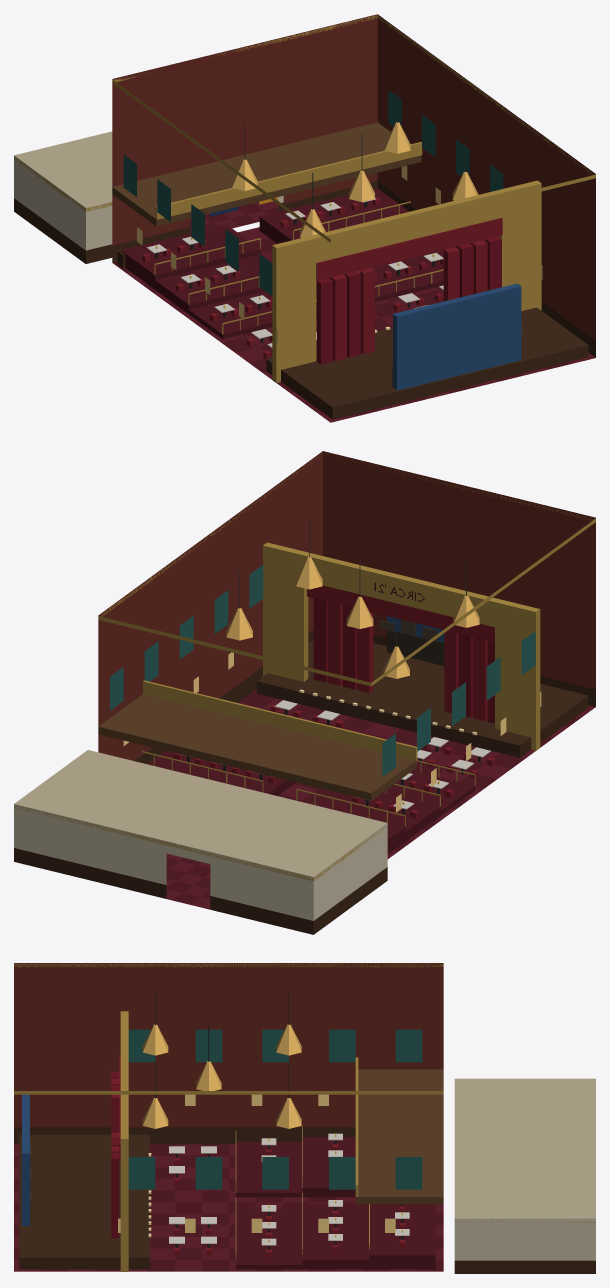
Rendered from circa21_int.glb.
3 renders of one model, top to bottom at view 1: azimuth 30°, elevation 25°; view 2: azimuth 150°, elevation 25°; view 3: azimuth 270°, elevation 25°, orthographic. The views are drawn at different scales.
Parts seen in each view (by area): view 1: circa21_int; view 2: circa21_int; view 3: circa21_int.
Part boxes in pixels (x1,y1,x2,y2): circa21_int: [14, 14, 595, 422]; circa21_int: [14, 451, 595, 934]; circa21_int: [14, 963, 595, 1273].
Bounding box in the file's own units: 24.8 × 15 × 43.6.
